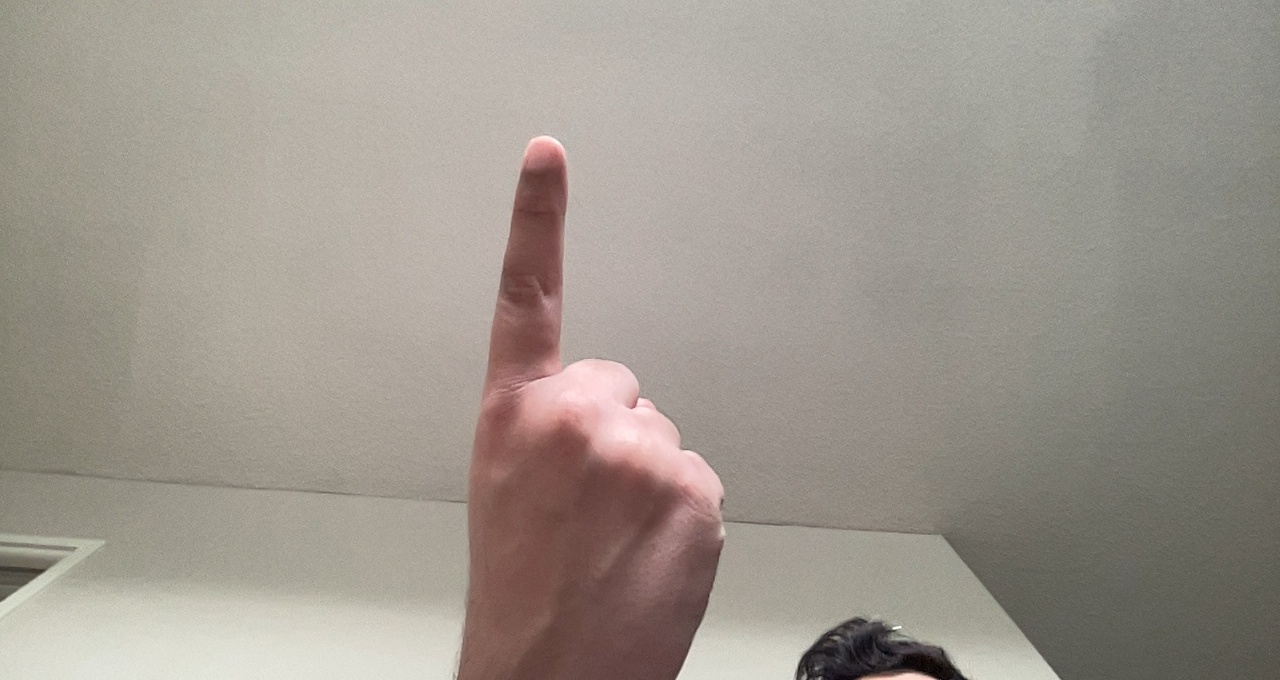fingerup: (476, 132, 730, 645)
